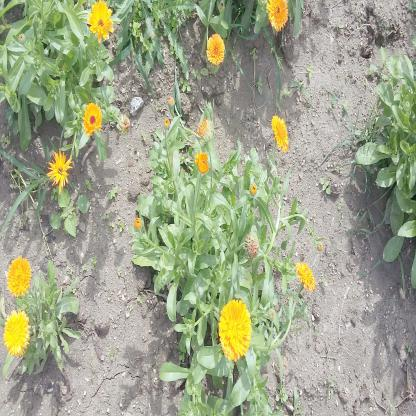marigold: (219, 296, 251, 359), (3, 309, 30, 357), (7, 256, 32, 297), (88, 1, 114, 38), (48, 151, 70, 188), (295, 260, 317, 291), (267, 0, 289, 31), (271, 114, 289, 149), (84, 103, 101, 136), (207, 34, 226, 63)
